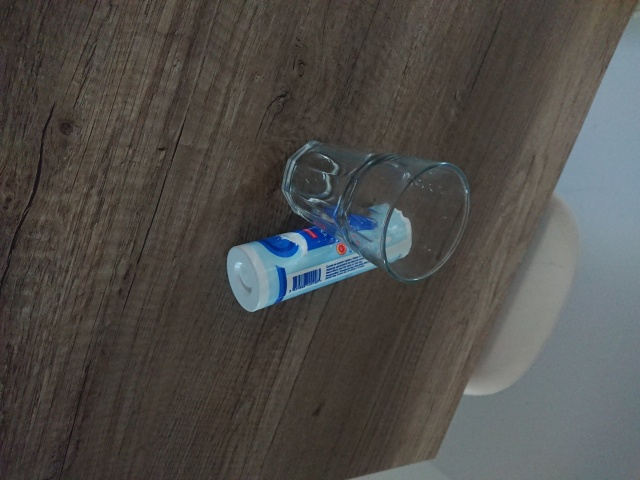Solana Pag Fine Sea Salt 250g: (221, 198, 417, 315)
